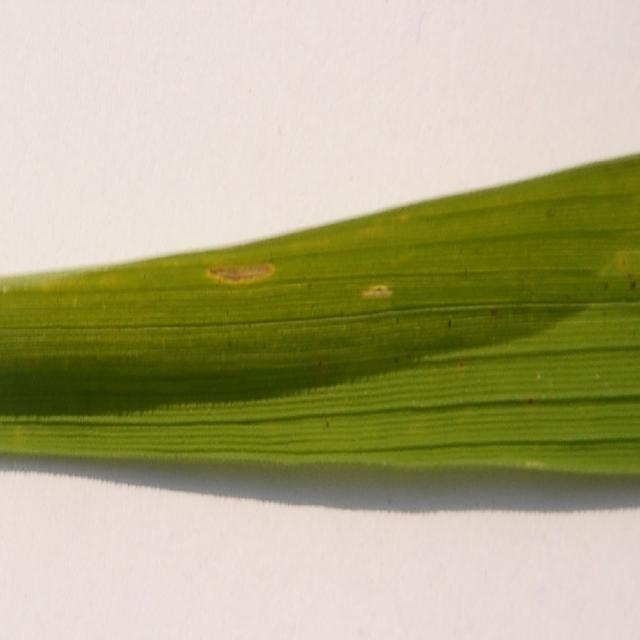bacterial_leaf_blight: (208, 263, 274, 283), (362, 285, 391, 298)
